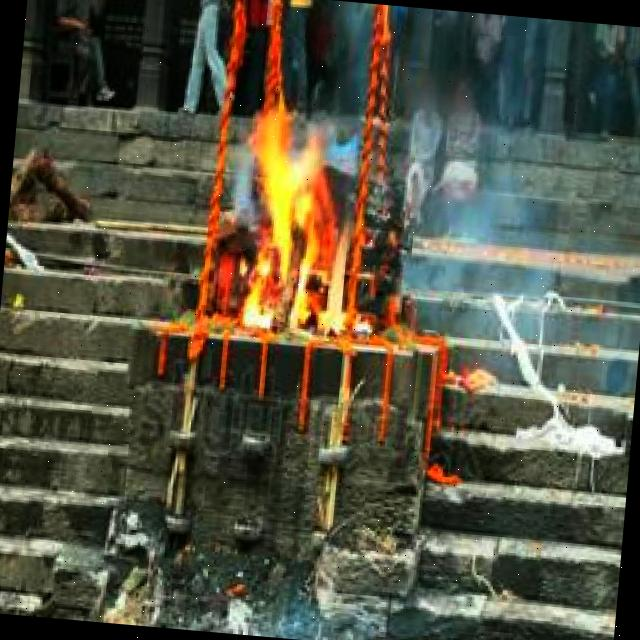fire: (232, 102, 384, 345)
